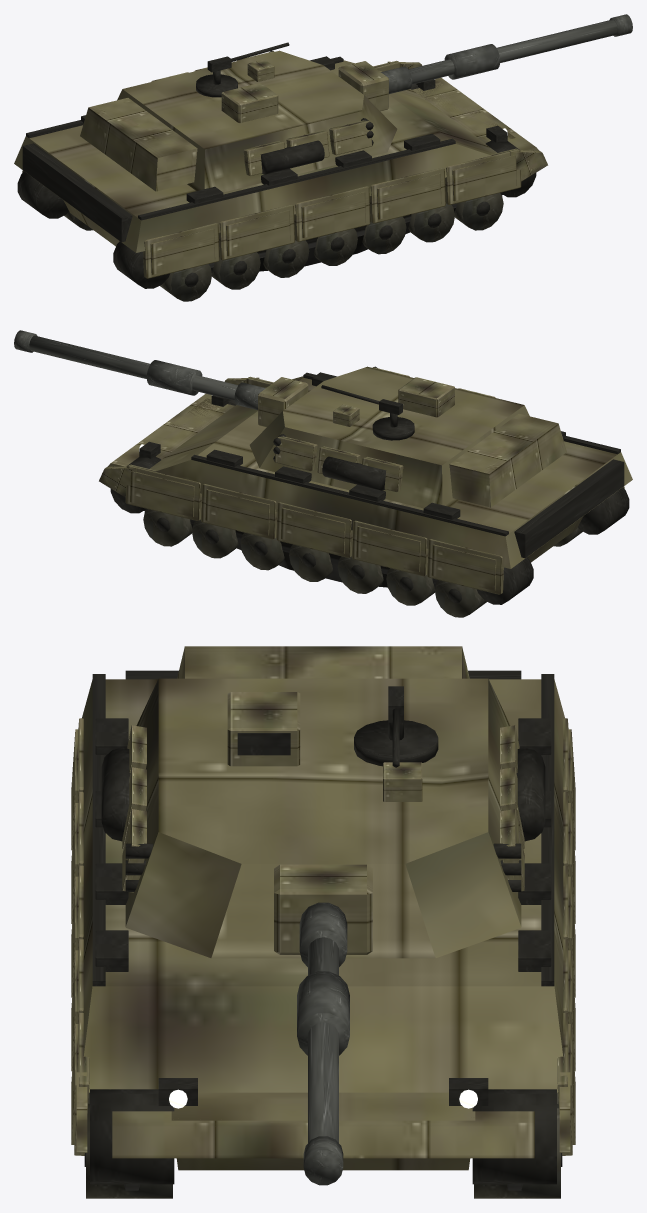
The model's file is unit_scorpion_1.glb.
The picture shows the model from 3 angles, top to bottom: view 1: azimuth 30°, elevation 25°; view 2: azimuth 150°, elevation 25°; view 3: azimuth 270°, elevation 25°; orthographic projection. The views are drawn at different scales.
Parts seen in each view (by area): view 1: unit_scorpion_1; view 2: unit_scorpion_1; view 3: unit_scorpion_1.
Boxes of the visible parts, x1,y1,x2,y2 form: unit_scorpion_1: [14, 14, 632, 301]; unit_scorpion_1: [14, 330, 632, 617]; unit_scorpion_1: [71, 646, 575, 1198].
Size of the model in its own units: 8.2 by 2.29 by 3.22.
6 materials, 5 textured.
